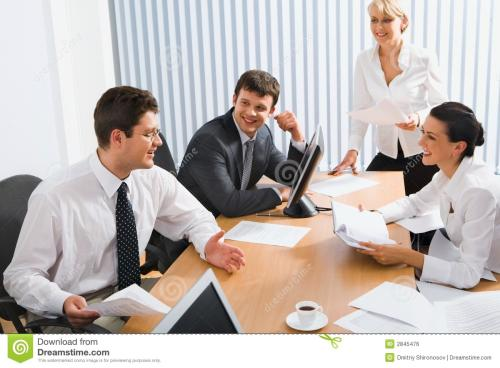no_mask: (91, 87, 164, 173), (417, 102, 486, 168), (228, 65, 279, 137), (365, 2, 410, 50)
